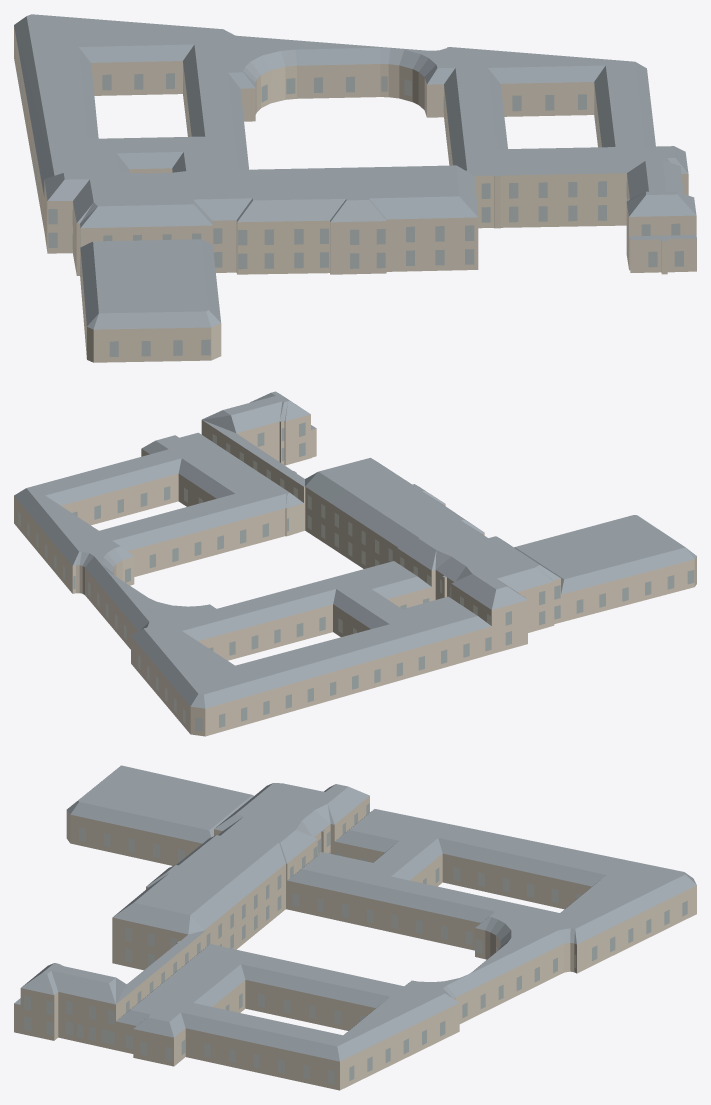
The picture shows the model from 3 angles, top to bottom: view 1: azimuth 30°, elevation 25°; view 2: azimuth 150°, elevation 25°; view 3: azimuth 270°, elevation 25°; orthographic projection. The views are drawn at different scales.
Visible parts, largest first — view 1: roof, stone, window; view 2: roof, stone, window; view 3: roof, stone, window.
Boxes of the visible parts, x1,y1,x2,y2 form: roof: (14,14,696,329); stone: (14,26,696,362); window: (15,47,683,356); roof: (14,391,696,708); stone: (14,414,696,736); window: (18,422,694,731); roof: (14,765,696,1061); stone: (14,796,696,1090); window: (24,803,687,1084).
Size of the model in its own units: 130 by 12 by 129.
